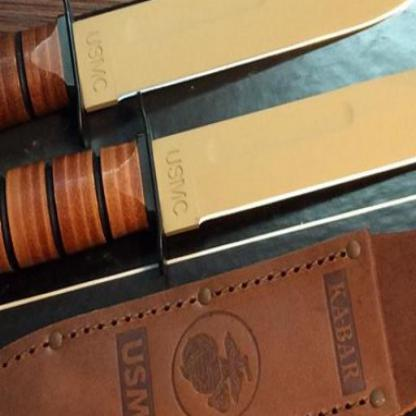knife: (0, 36, 415, 295), (0, 0, 415, 195)
